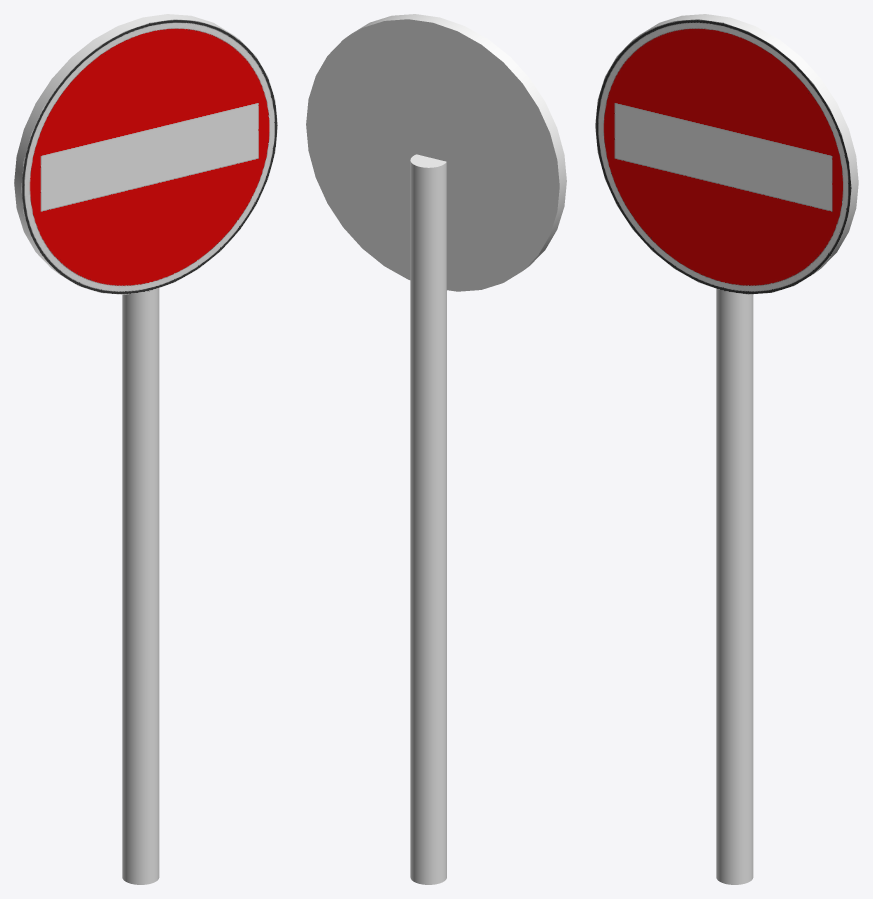
Rendered from señal de contramano.fbx.
3 renders of one model, left to right at view 1: azimuth 30°, elevation 25°; view 2: azimuth 150°, elevation 25°; view 3: azimuth 330°, elevation 25°, orthographic.
Visible parts, largest first — view 1: Cylinder.028; view 2: Cylinder.028; view 3: Cylinder.028.
Part boxes in pixels (x1,y1,x2,y2): Cylinder.028: (14,14,277,884); Cylinder.028: (306,14,566,884); Cylinder.028: (595,14,858,884).
Bounding box in the file's own units: 80.06 × 257 × 10.47.
2 materials, 2 textured.
